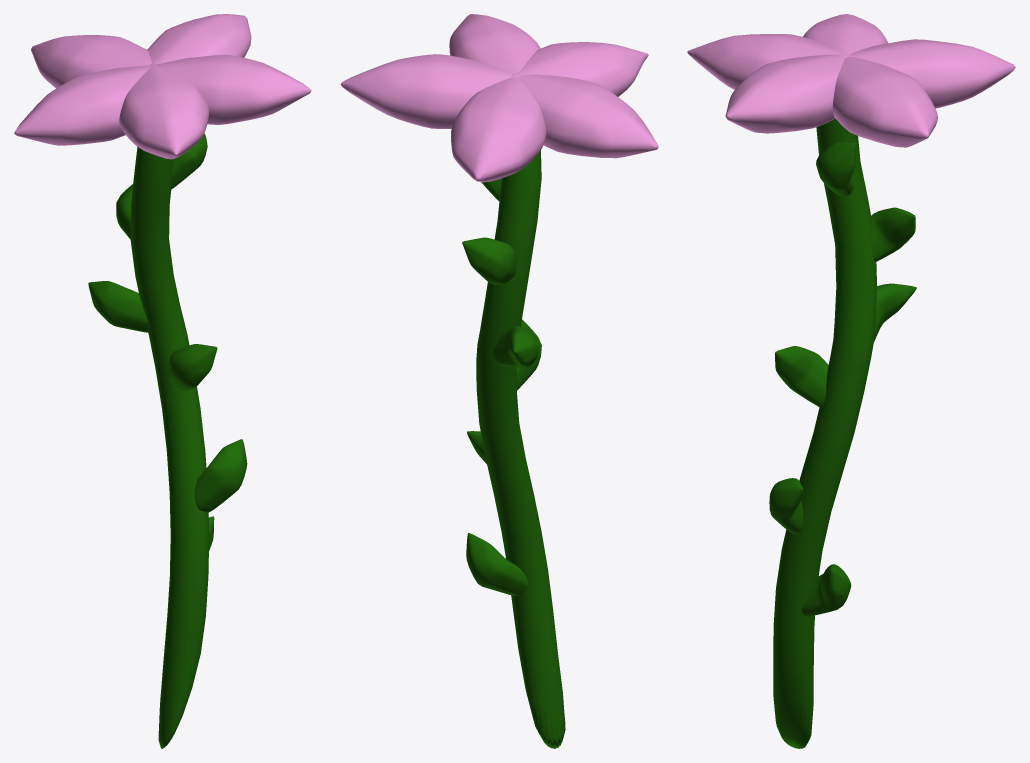
The model's file is Flower.fbx.
3 views of the same model, side by side, from view 1: azimuth 30°, elevation 25°; view 2: azimuth 150°, elevation 25°; view 3: azimuth 270°, elevation 25° (orthographic). The views are drawn at different scales.
Visible parts, largest first — view 1: polySurface26; view 2: polySurface26; view 3: polySurface26.
Part boxes in pixels (left/top/right/bottom): polySurface26: left=14, top=14, right=311, bottom=748; polySurface26: left=340, top=14, right=658, bottom=748; polySurface26: left=687, top=14, right=1015, bottom=748.
Size of the model in its own units: 1.63 by 3.9 by 1.63.
